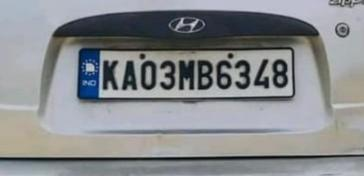0: (139, 57, 157, 92)
3: (157, 59, 177, 93), (235, 58, 254, 92)
4: (251, 59, 272, 92)
6: (214, 56, 234, 92)
8: (271, 52, 292, 89)
A: (118, 57, 139, 92)
B: (196, 57, 214, 93)
K: (100, 56, 120, 91)
M: (177, 56, 197, 92)
